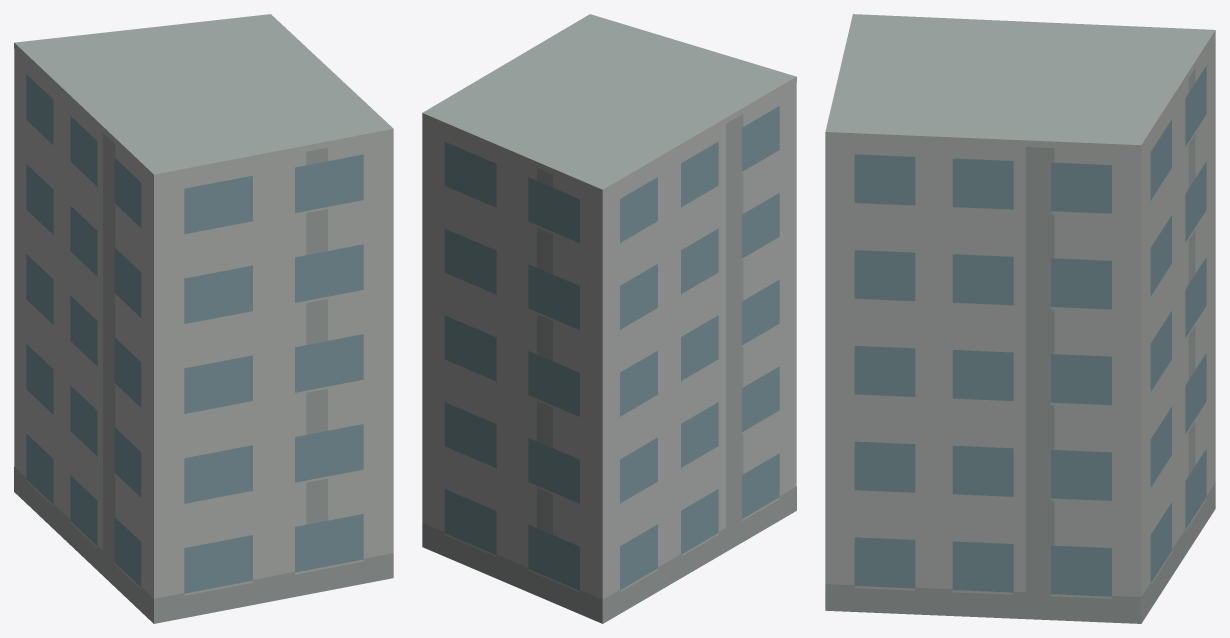
The model's file is survey-upis-32604888.glb.
3 renders of one model, left to right at view 1: azimuth 30°, elevation 25°; view 2: azimuth 150°, elevation 25°; view 3: azimuth 270°, elevation 25°, orthographic. The views are drawn at different scales.
Parts seen in each view (by area): view 1: survey-upis-32604888.tmp; view 2: survey-upis-32604888.tmp; view 3: survey-upis-32604888.tmp.
Part boxes in pixels (<box>): survey-upis-32604888.tmp: <box>14,14,393,623</box>; survey-upis-32604888.tmp: <box>422,14,796,623</box>; survey-upis-32604888.tmp: <box>825,14,1215,623</box>.
Size of the model in its own units: 10.32 by 17.55 by 12.98.
